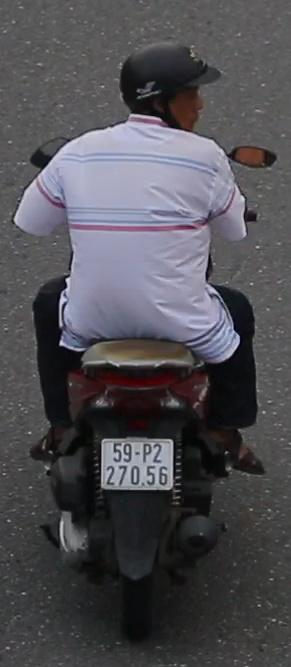LP: (97, 431, 178, 494)
helmet: (117, 37, 209, 129)
